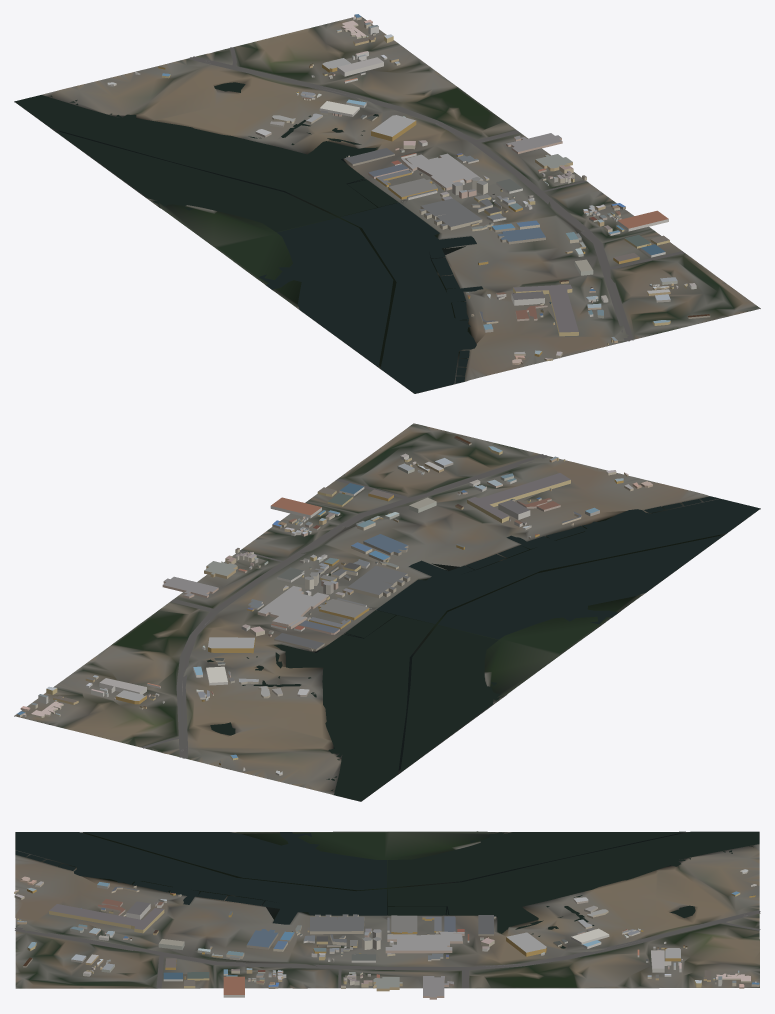
3 renders of one model, top to bottom at view 1: azimuth 30°, elevation 25°; view 2: azimuth 150°, elevation 25°; view 3: azimuth 270°, elevation 25°, orthographic. The views are drawn at different scales.
Visible parts, largest first — view 1: ground, water, buildings, roads; view 2: ground, water, buildings, roads; view 3: ground, water, buildings, roads.
Boxes of the visible parts, x1=… form: ground: x1=14, y1=16, x2=760, y2=393; water: x1=14, y1=82, x2=483, y2=393; buildings: x1=107, y1=14, x2=710, y2=364; roads: x1=188, y1=47, x2=684, y2=341; ground: x1=14, y1=423, x2=760, y2=801; water: x1=207, y1=496, x2=760, y2=801; buildings: x1=16, y1=436, x2=652, y2=775; roads: x1=141, y1=454, x2=548, y2=758; ground: x1=15, y1=831, x2=759, y2=988; water: x1=15, y1=831, x2=759, y2=948; buildings: x1=14, y1=869, x2=759, y2=999; roads: x1=15, y1=910, x2=760, y2=988.
Size of the model in its own units: 1499 by 42.73 by 2811.
